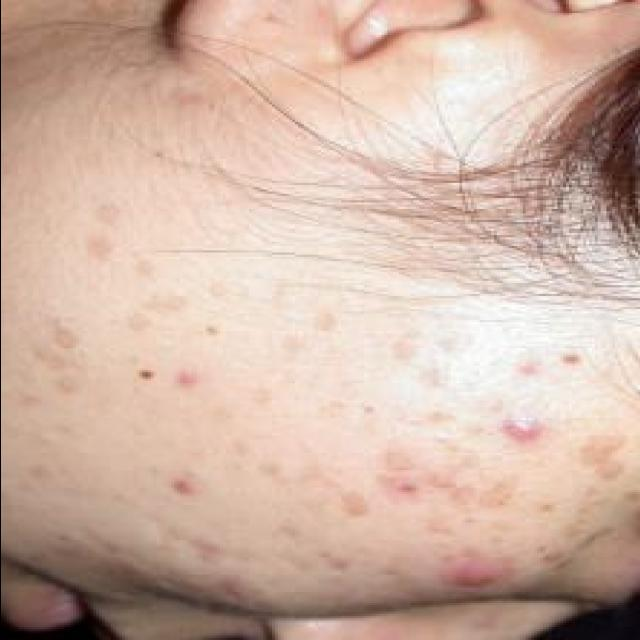Acne: (442, 554, 504, 594), (494, 412, 552, 446), (388, 476, 428, 505), (164, 474, 202, 502), (168, 369, 202, 393)
